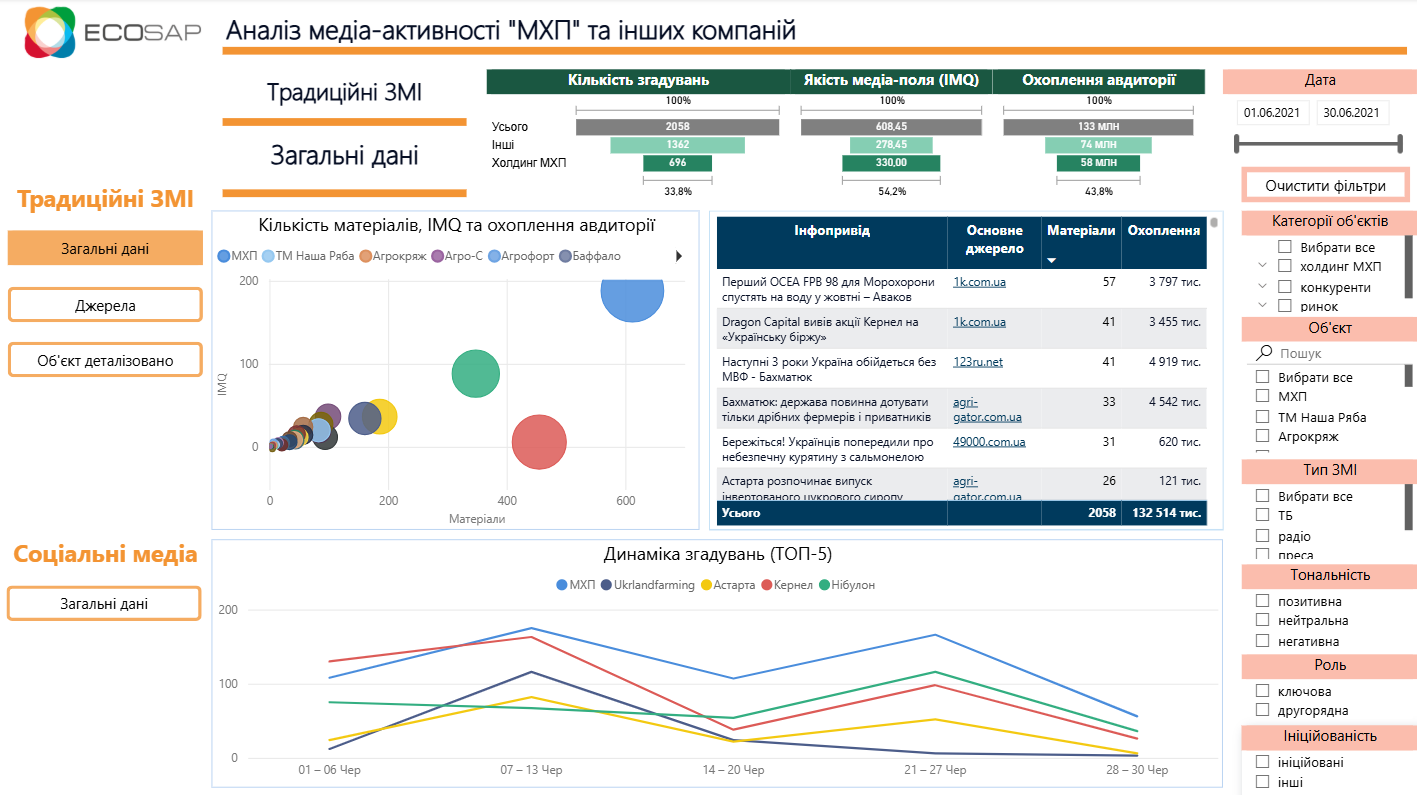

The page's visual inventory and layout, read from the dashboard file:
{"tool":"powerbi","page":{"name":"Загальні дані","canvas":[1280,720],"ordinal":0},"visuals":[{"type":"basicShape","box":[192,32,1088,32],"z":0},{"type":"funnel","title":"Кількість згадувань","fields":{"Y":["ЗМІ.const матеріалів","ЗМІ.інші","ЗМІ.об'єкти МХП"]},"box":[440,64,274.2,120],"z":0,"group":"g1"},{"type":"image","box":[0,0,208,64],"z":1000},{"type":"funnel","title":"Якість медіа-поля (IMQ)","fields":{"Y":["ЗМІ.const IMQ","ЗМІ.IMQ інші","ЗМІ.IMQ МХП"]},"box":[714.2,64,182.8,120],"z":1000,"group":"g1"},{"type":"textbox","box":[200,7,760,48],"z":2000},{"type":"funnel","title":"Охоплення авдиторії","fields":{"Y":["ЗМІ.const охоплення","ЗМІ.охоп.Інші","ЗМІ.охоп.МХП"]},"box":[896.9,64,191.1,120],"z":2000,"group":"g1"},{"type":"slicer","title":"Тип ЗМІ","fields":{"Values":["тип ЗМІ.Тип ЗМІ"]},"box":[1120,415.8,160,94.6],"z":3000},{"type":"scatterChart","title":"Кількість матеріалів, IMQ та охоплення авдиторії","fields":{"Series":["об'єкти.Об'єкт"],"Size":["дані.Матеріали"],"X":["дані.Матеріали"],"Y":["Sum(дані.IMQ)"]},"box":[192,192,440,288],"z":4000},{"type":"tableEx","fields":{"Values":["ЗМІ інфоприводи.Інфопривід","Повідомлення.Основне джерело","дані.Матеріали","Sum(ЗМІ.Охоплення)"]},"box":[640,192,464,288],"z":5000},{"type":"textbox","box":[0,160.1,191.9,47.7],"z":6000},{"type":"slicer","title":"Ініційованість","fields":{"Values":["ініційованість.Ініційованість"]},"box":[1120,656,160,64],"z":7000},{"type":"slicer","title":"Роль","fields":{"Values":["роль.Роль"]},"box":[1120,592,160,64],"z":8000},{"type":"slicer","title":"Тональність","fields":{"Values":["тональність.Тональність"]},"box":[1120,510.4,160,81.1],"z":9000},{"type":"lineChart","title":"Динаміка згадувань (ТОП-5)","fields":{"Category":["Календар.Тиждень","Календар.Дата"],"Series":["об'єкти.Об'єкт"],"Y":["дані.Матеріали"]},"box":[192,488,912,224],"z":10000},{"type":"textbox","box":[0,480,191.9,47.7],"z":11000},{"type":"basicShape","box":[192,160,240,32],"z":13000},{"type":"textbox","box":[192,120,240,50],"z":14000},{"type":"slicer","title":"Об''єкт","fields":{"Values":["об'єкти.Об'єкт"]},"box":[1120,287.3,160,127.3],"z":15000},{"type":"slicer","title":"Категорії об''єктів","fields":{"Values":["об'єкти.Категорія об'єктів","об'єкти.Тип об'єктів"]},"box":[1120,192,160,96],"z":16000},{"type":"group","id":"g1","title":"Група 1","box":[440,64,648,120],"z":17000},{"type":"actionButton","box":[7.5,210,175.8,31.5],"z":18000},{"type":"actionButton","box":[7.5,260,176,32],"z":19000},{"type":"actionButton","box":[7.5,310,176,32],"z":22000},{"type":"actionButton","box":[7,530,176,32],"z":26000},{"type":"textbox","box":[192,64,240,40],"z":27000},{"type":"basicShape","box":[192,96,240,32],"z":28000},{"type":"actionButton","box":[1120,152,152,32],"z":30000},{"type":"slicer","title":"Дата","fields":{"Values":["Календар.Date"]},"box":[1104,64,176,80],"z":31000}]}

Visuals, with their boxes in screenshot pixels (x1, y1, x2, y2), scaled from the page's 1280x720 canvas onto the 1417x795 screenshot:
basicShape: left=213, top=35, right=1416, bottom=71
"Кількість згадувань" funnel: left=487, top=71, right=791, bottom=203
image: left=0, top=0, right=230, bottom=71
"Якість медіа-поля (IMQ)" funnel: left=791, top=71, right=993, bottom=203
textbox: left=221, top=8, right=1063, bottom=61
"Охоплення авдиторії" funnel: left=993, top=71, right=1204, bottom=203
"Тип ЗМІ" slicer: left=1240, top=459, right=1416, bottom=564
"Кількість матеріалів, IMQ та охоплення авдиторії" scatterChart: left=213, top=212, right=700, bottom=530
tableEx - ЗМІ інфоприводи.Інфопривід x Повідомлення.Основне джерело: left=708, top=212, right=1222, bottom=530
textbox: left=0, top=177, right=212, bottom=229
"Ініційованість" slicer: left=1240, top=724, right=1416, bottom=794
"Роль" slicer: left=1240, top=654, right=1416, bottom=724
"Тональність" slicer: left=1240, top=564, right=1416, bottom=653
"Динаміка згадувань (ТОП-5)" lineChart: left=213, top=539, right=1222, bottom=786
textbox: left=0, top=530, right=212, bottom=583
basicShape: left=213, top=177, right=478, bottom=212
textbox: left=213, top=132, right=478, bottom=188
"Об''єкт" slicer: left=1240, top=317, right=1416, bottom=458
"Категорії об''єктів" slicer: left=1240, top=212, right=1416, bottom=318
"Група 1" group: left=487, top=71, right=1204, bottom=203
actionButton: left=8, top=232, right=203, bottom=267
actionButton: left=8, top=287, right=203, bottom=322
actionButton: left=8, top=342, right=203, bottom=378
actionButton: left=8, top=585, right=203, bottom=621
textbox: left=213, top=71, right=478, bottom=115
basicShape: left=213, top=106, right=478, bottom=141
actionButton: left=1240, top=168, right=1408, bottom=203
"Дата" slicer: left=1222, top=71, right=1416, bottom=159
